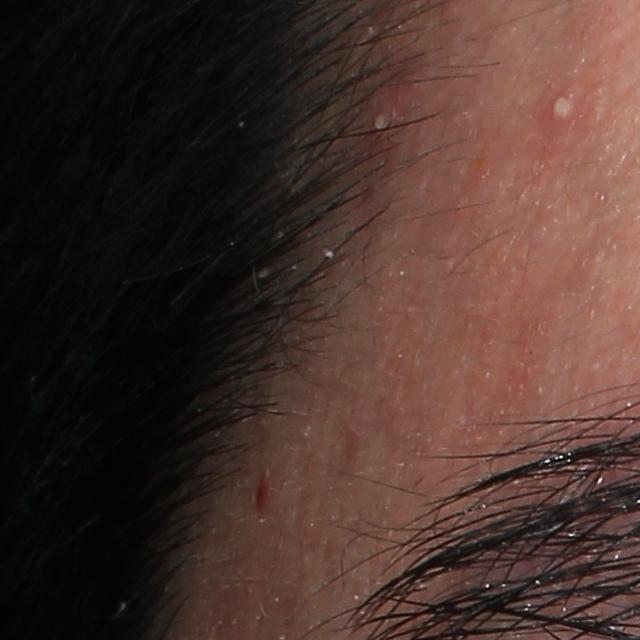pustule: (358, 99, 404, 152), (543, 78, 581, 127)
